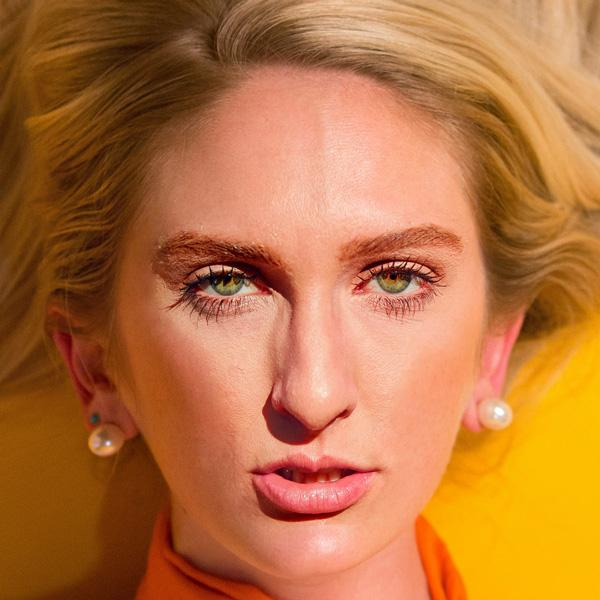Eyes: (171, 254, 281, 320), (339, 250, 448, 315)
